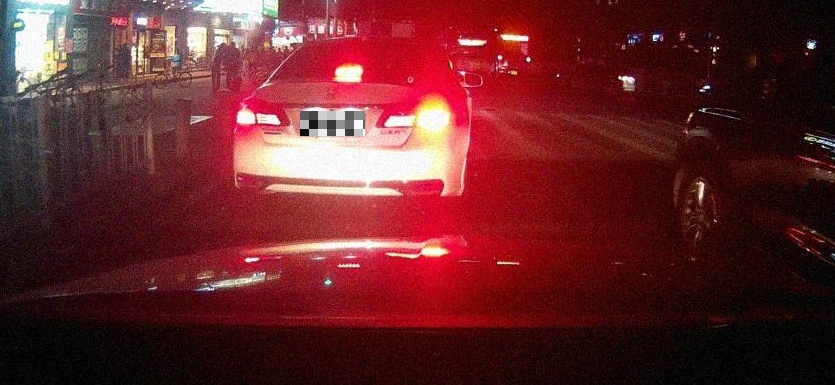L_light: (235, 96, 290, 126)
R_light: (374, 103, 450, 128)
T_light: (337, 67, 362, 76)
night-right: (233, 37, 456, 206)
plate_1: (300, 111, 365, 136)
